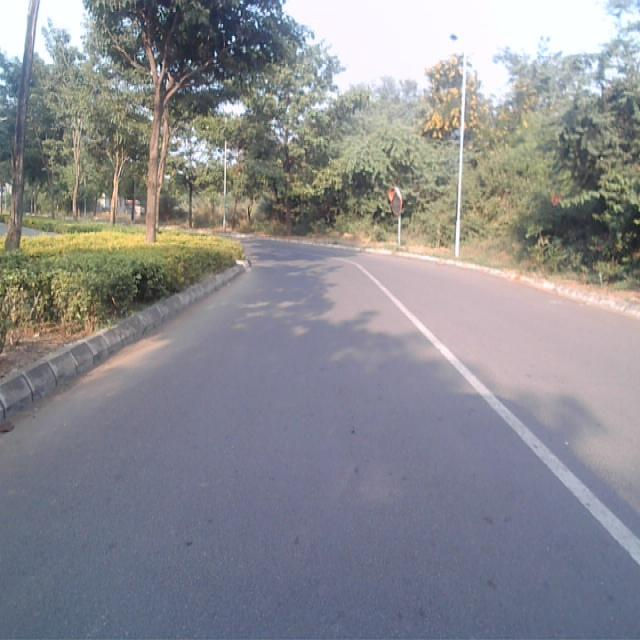lane: (0, 253, 640, 640)
